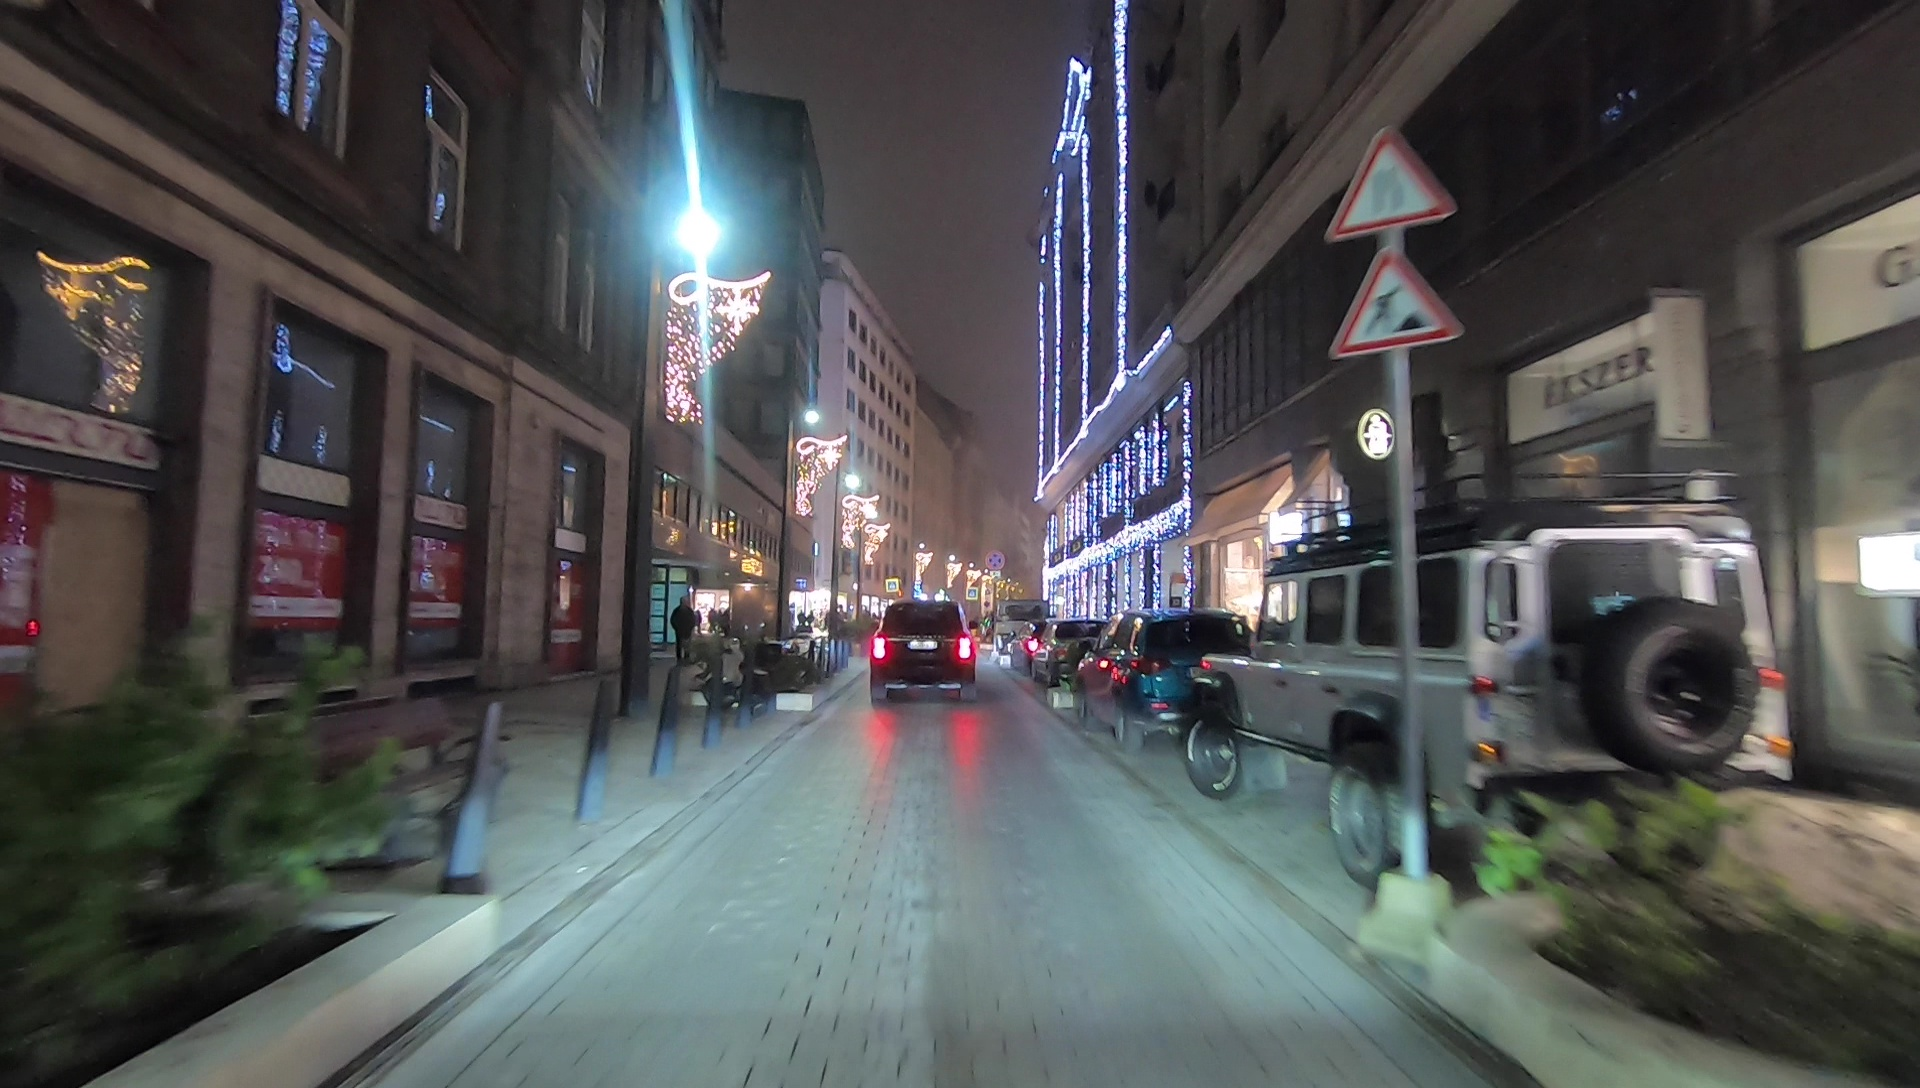person: (669, 598, 695, 661)
